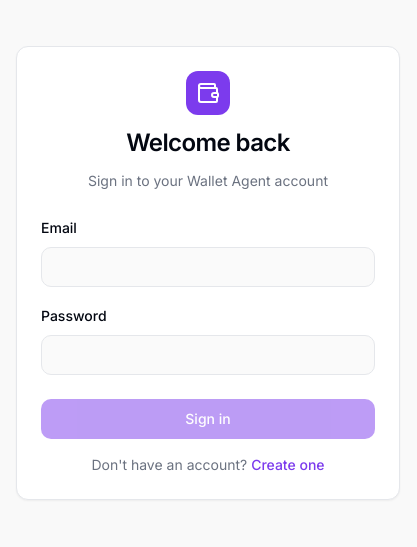
Test case: AuthForm › login shows the server error and lets the user retry
Type "a@example.com" into the field labelled "Email".
click(208, 267); type("a@example.com")  # box [41,247,375,287]
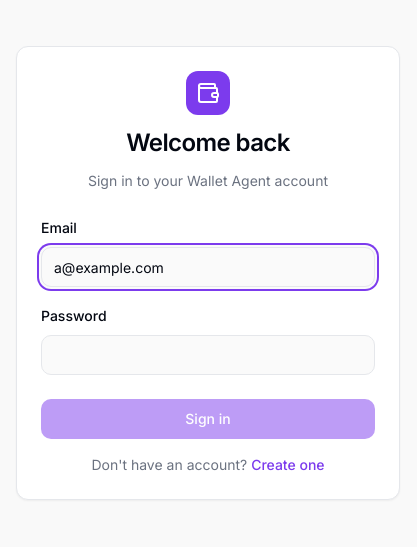
Type "wrong-password" into the password field labelled "Password".
click(208, 355); type("wrong-password")  # box [41,335,375,375]
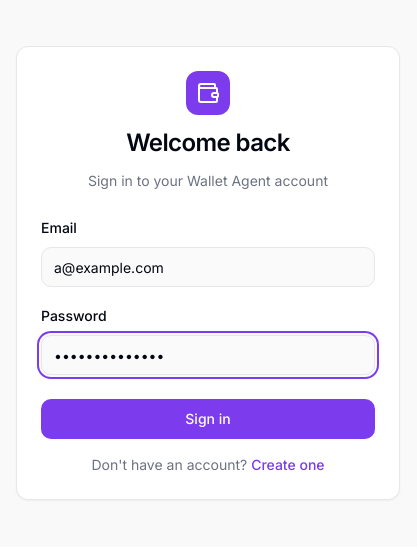
Click the button "Sign in".
click(208, 419)  # box [41,399,375,439]
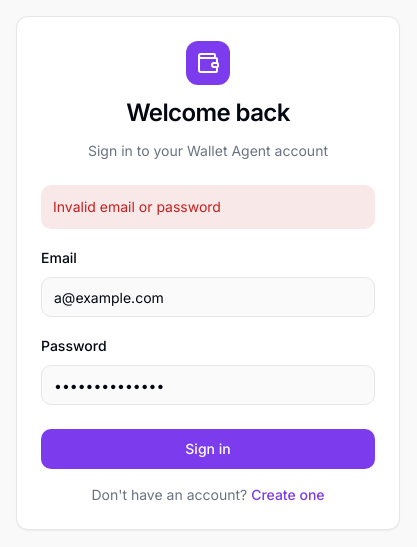
Now the button "Sign in" is enabled, box [41,429,375,469]
Now the message reads "Invalid email or password", box [53,198,221,215]
